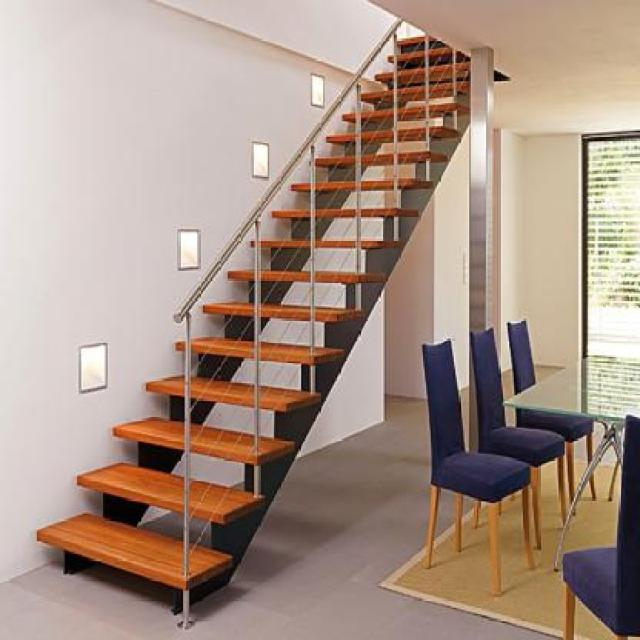stair: (33, 1, 505, 608)
